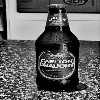beer: (33, 2, 81, 88)
